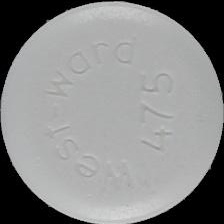0143-9740: (0, 0, 224, 224)
